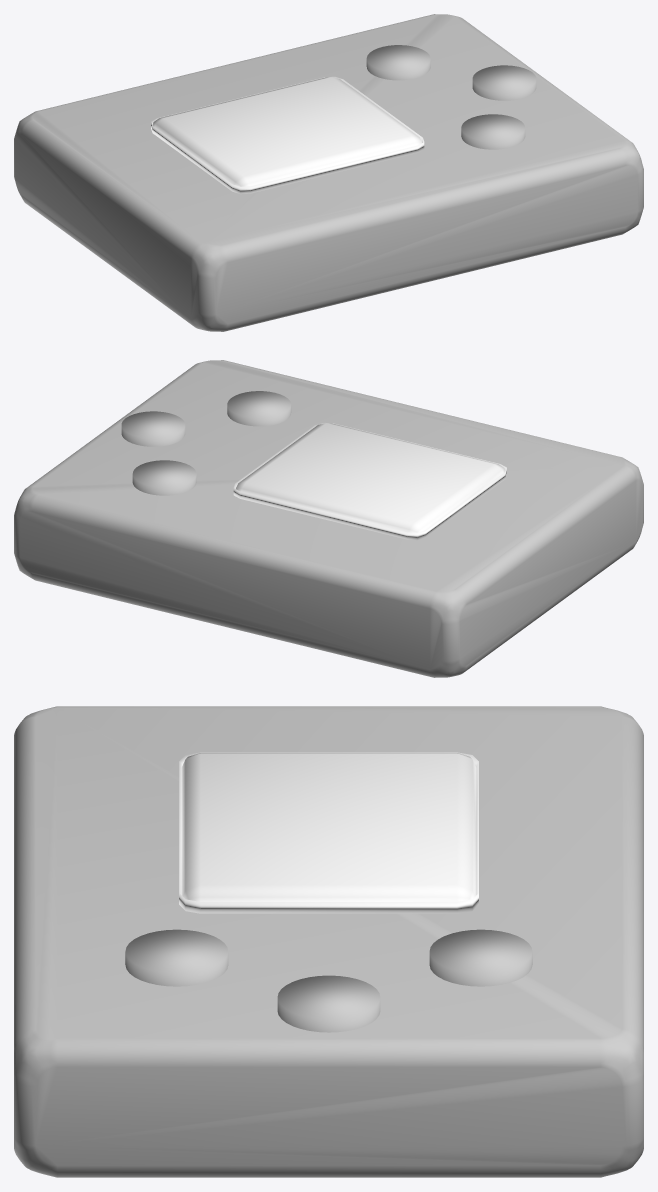
The model's file is High Poly Husky Tamagotchi Example.fbx.
3 renders of one model, top to bottom at view 1: azimuth 30°, elevation 25°; view 2: azimuth 150°, elevation 25°; view 3: azimuth 270°, elevation 25°, orthographic. The views are drawn at different scales.
Parts seen in each view (by area): view 1: High Poly Husky Tamagotchi Example; view 2: High Poly Husky Tamagotchi Example; view 3: High Poly Husky Tamagotchi Example.
Boxes of the visible parts, left/top/right/bottom form: High Poly Husky Tamagotchi Example: left=14, top=14, right=643, bottom=331; High Poly Husky Tamagotchi Example: left=14, top=360, right=643, bottom=677; High Poly Husky Tamagotchi Example: left=14, top=706, right=643, bottom=1177.
Bounding box in the file's own units: 380 × 80.89 × 290.
